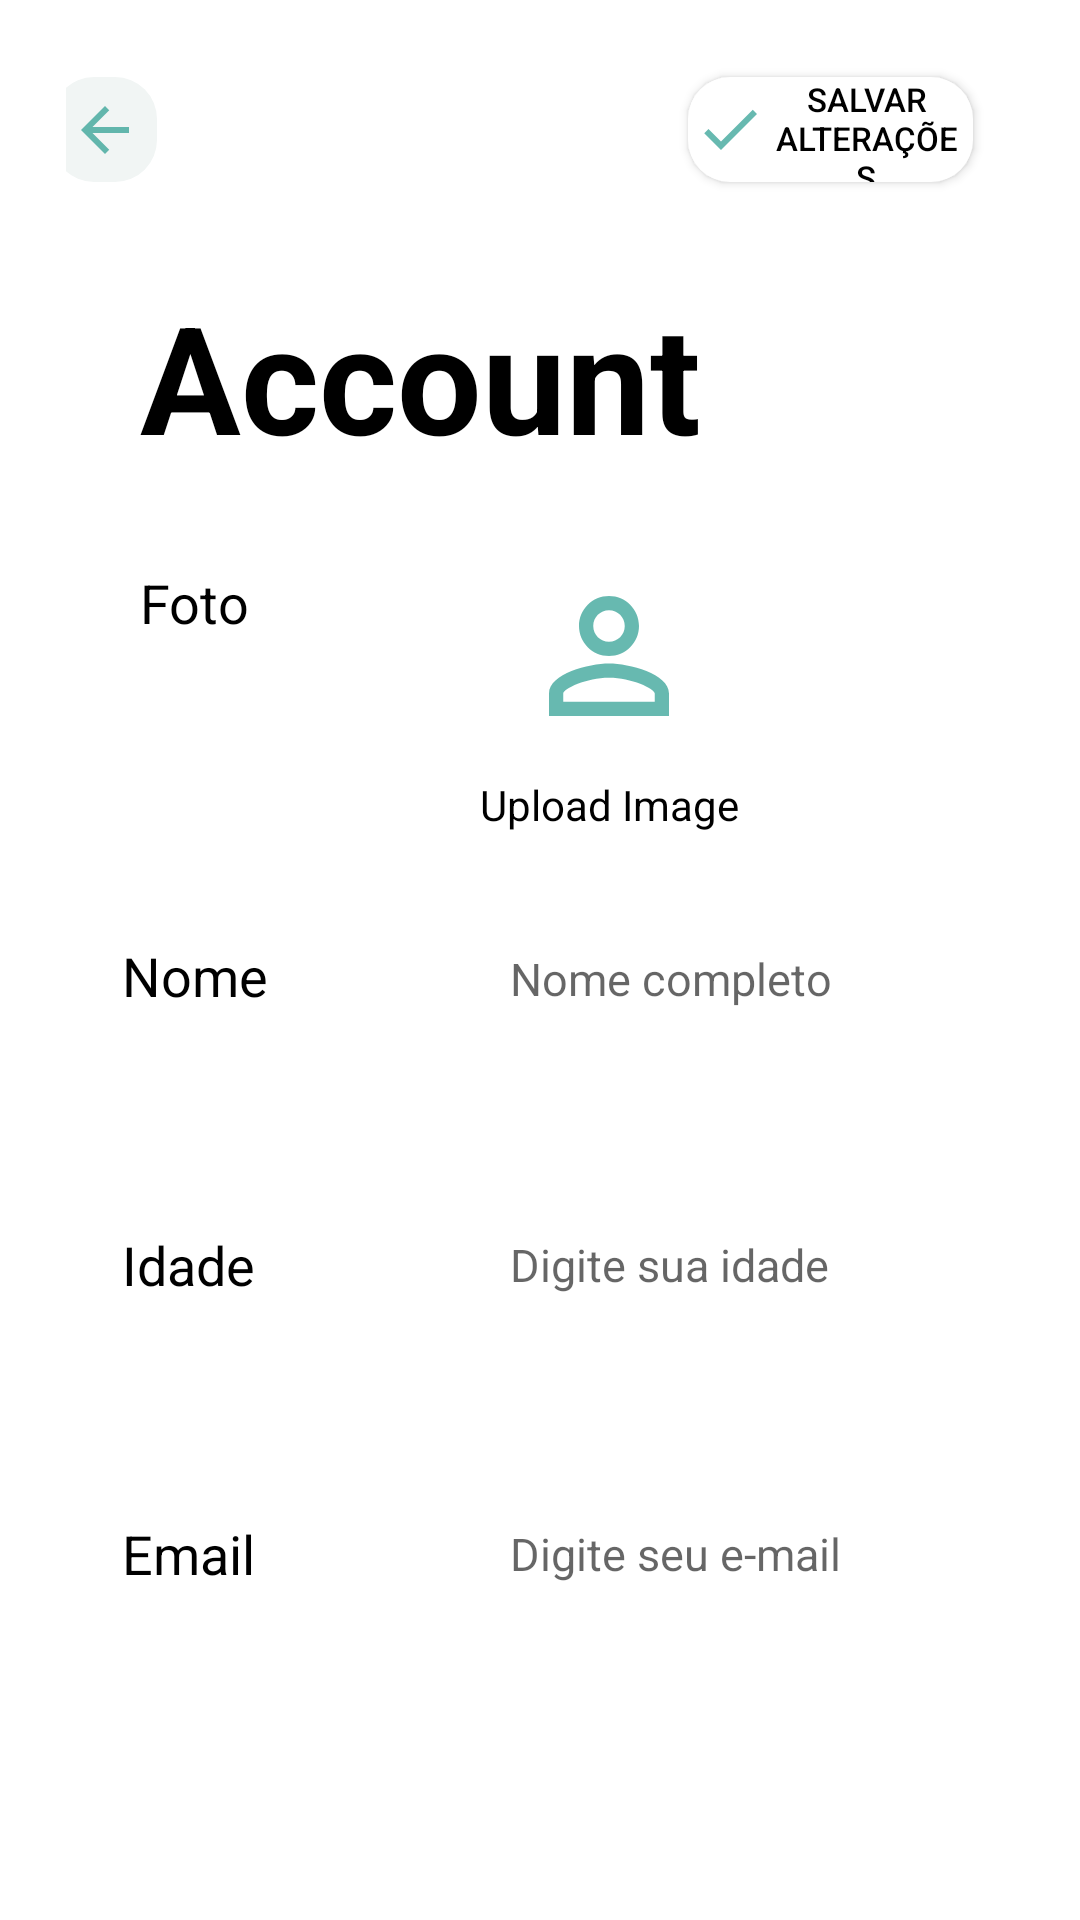

Icon bounding boxes for this 1080×1920 phone screenshot, format Rect(x1, y1, x2, y2):
arrow back: Rect(66, 77, 157, 182)
